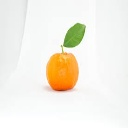orange: (44, 22, 86, 92)
